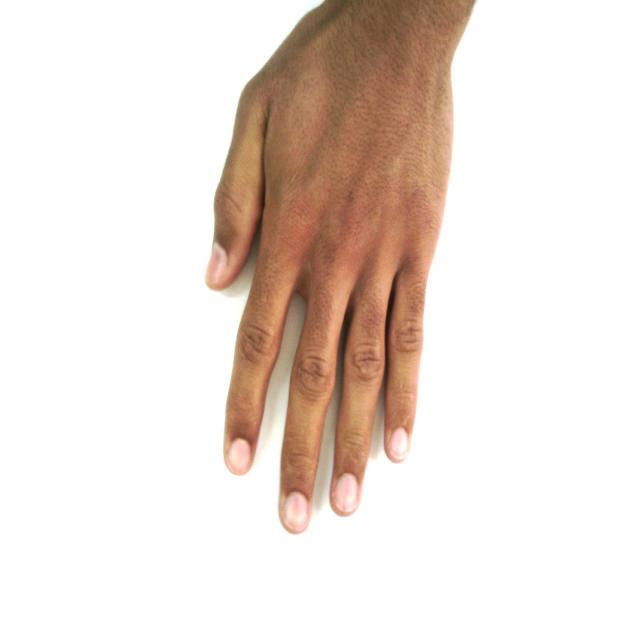Fingernail: (334, 474, 358, 512), (284, 493, 308, 530), (229, 440, 251, 472), (208, 245, 227, 282), (389, 429, 408, 459)
